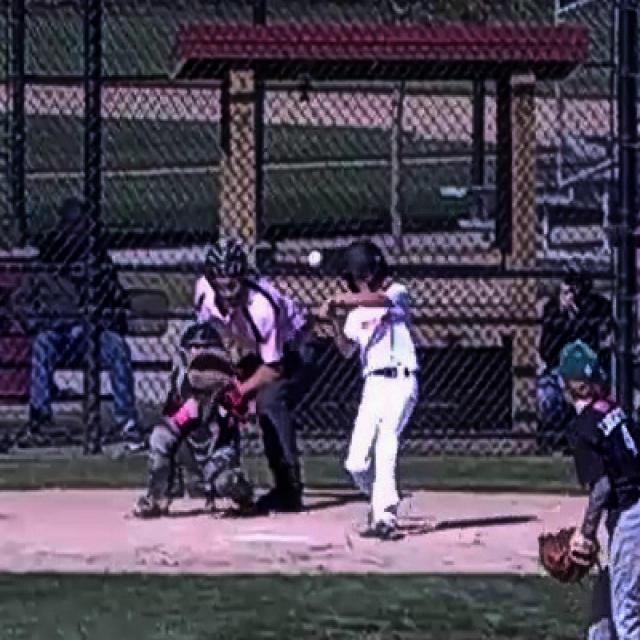baseball: (309, 252, 321, 266)
